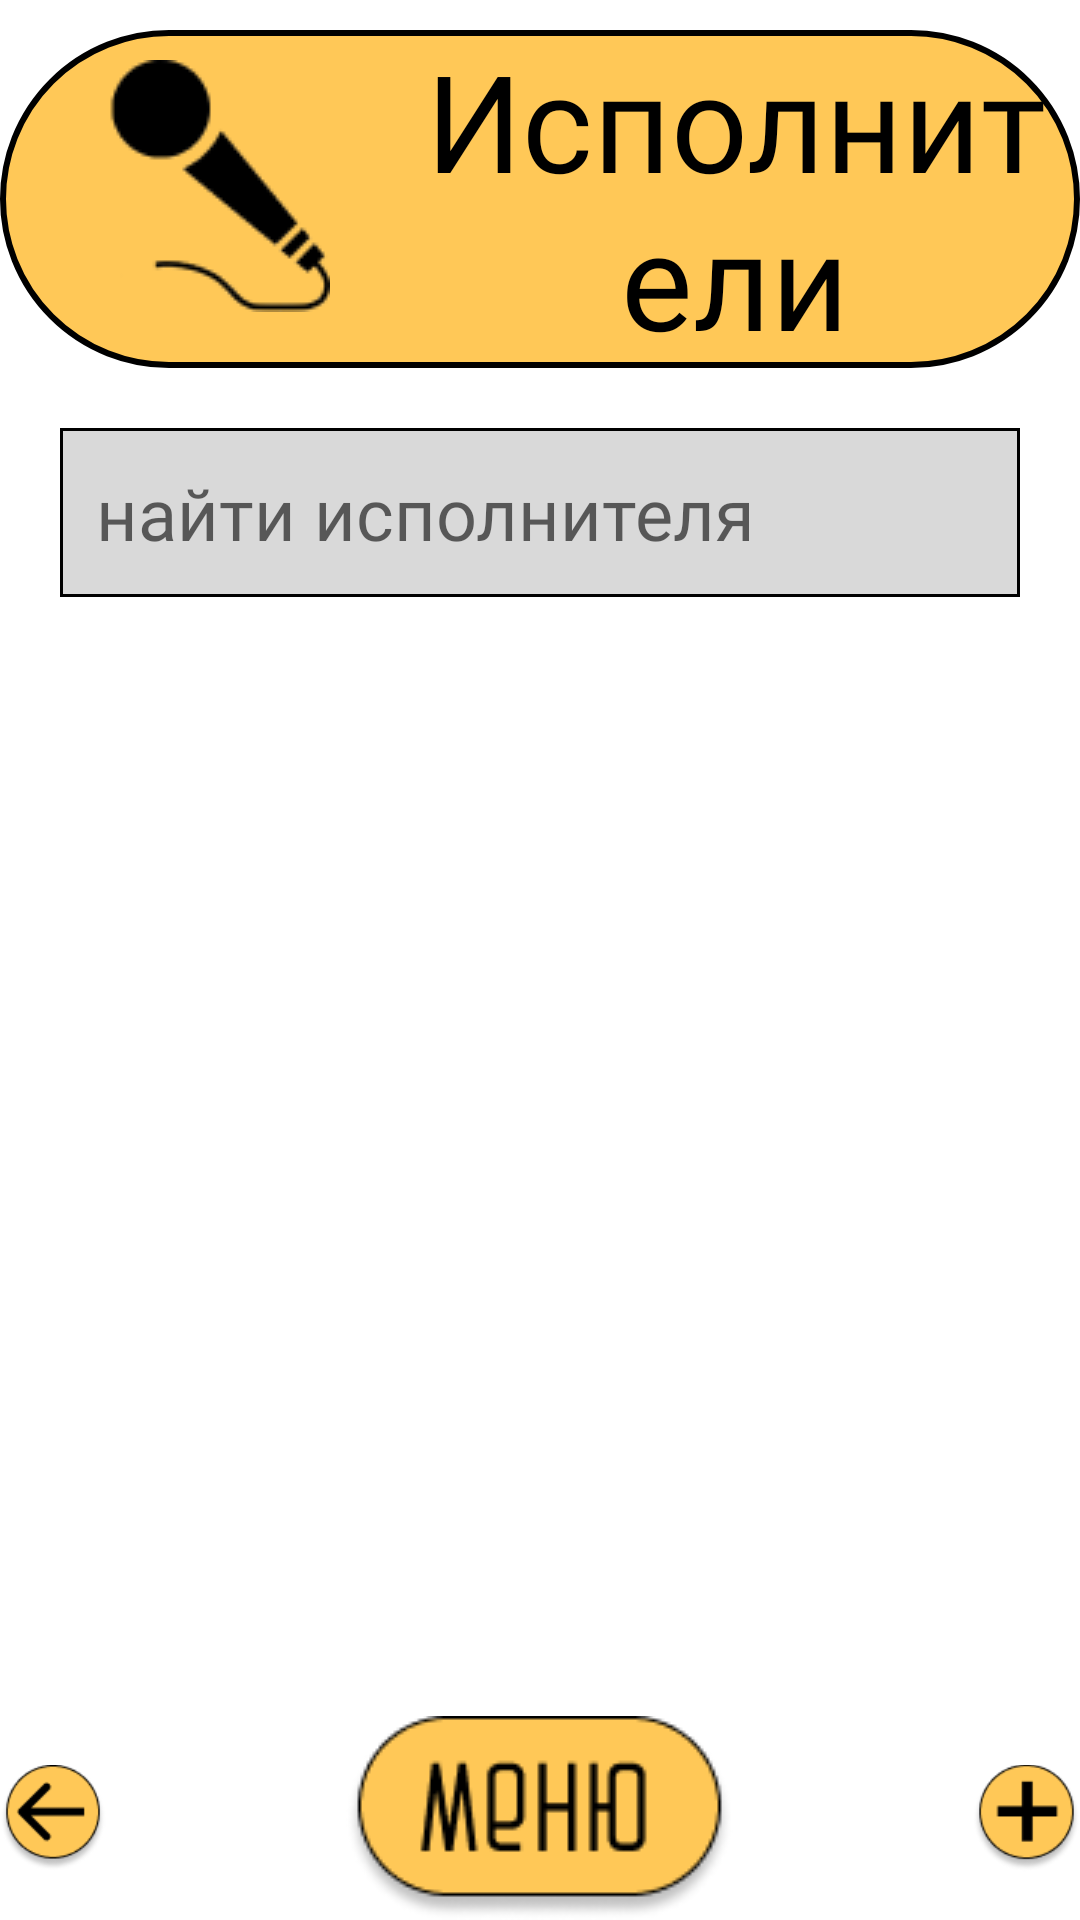

Locate icon controls on the screen. Image size 1080 x 1920, boxes as (x1, y1, x2, y2).
back: (5, 1765, 101, 1866)
micro: (110, 60, 330, 312)
plus: (978, 1765, 1075, 1866)
